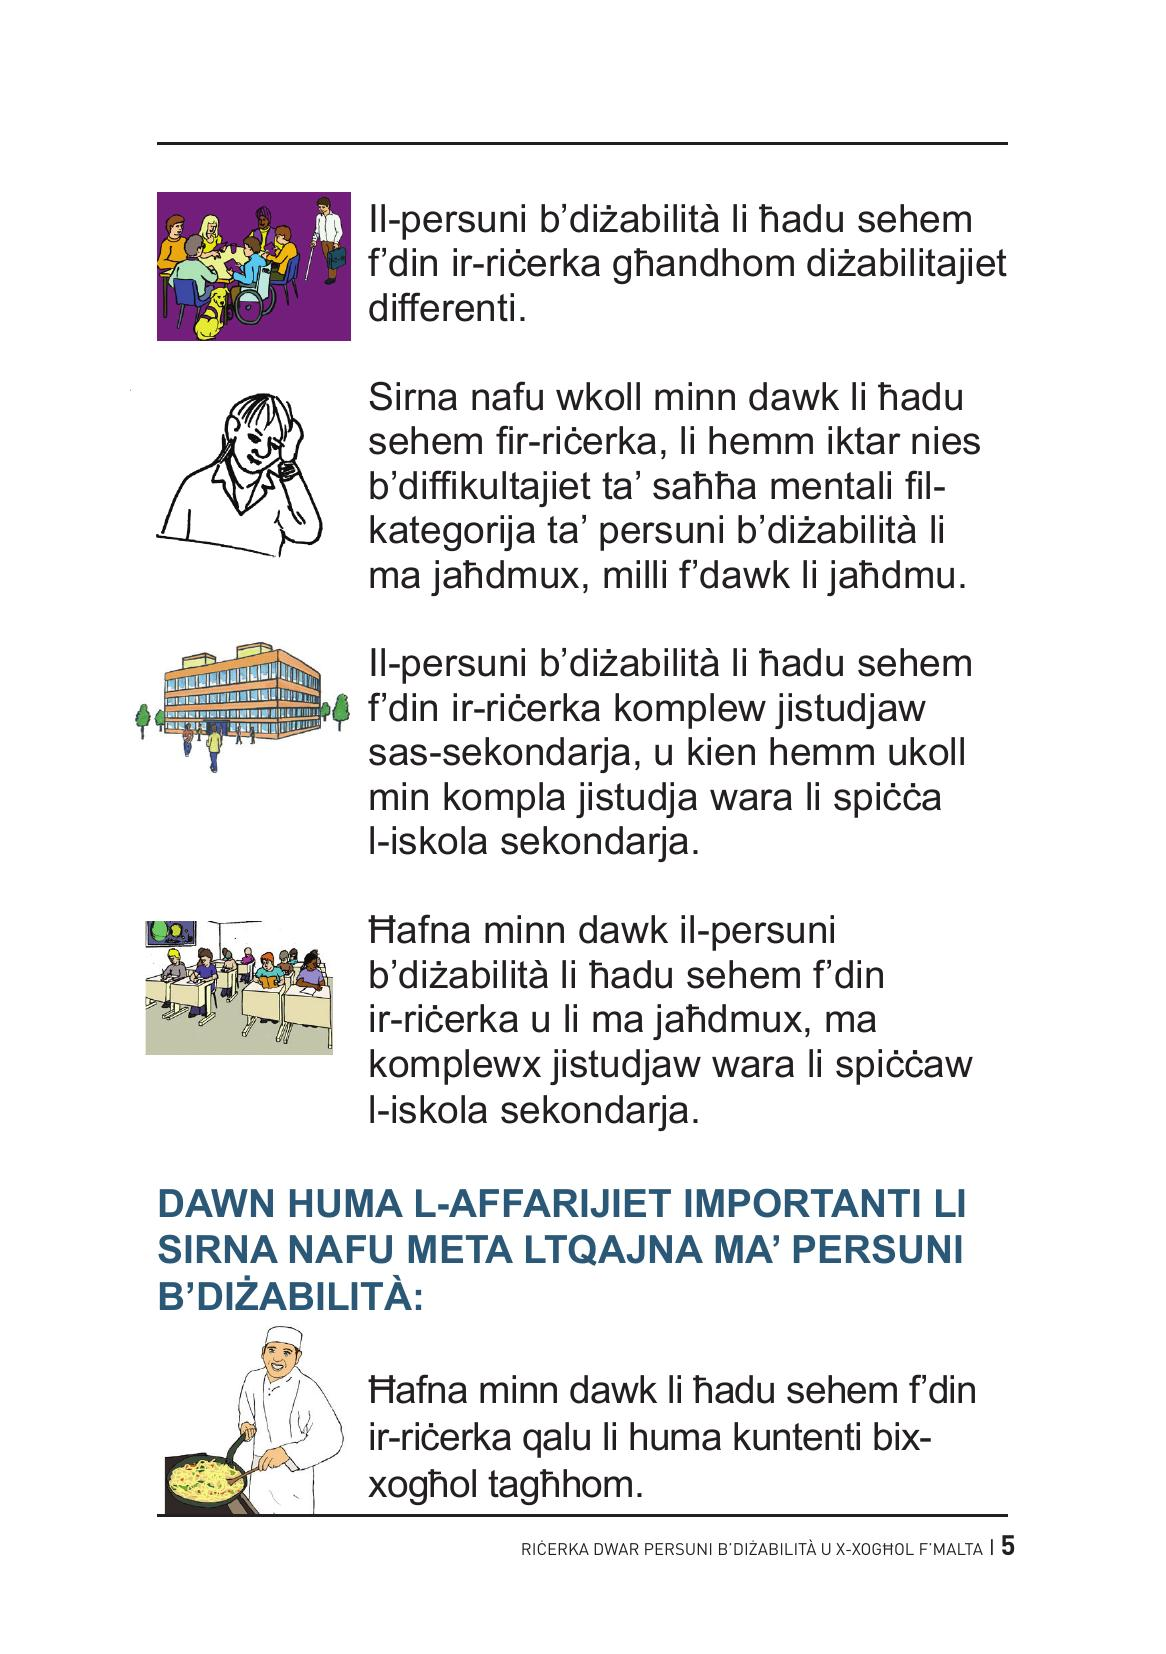text: (357, 182, 1035, 1159), (132, 1168, 1007, 1318), (350, 1359, 996, 1509)
